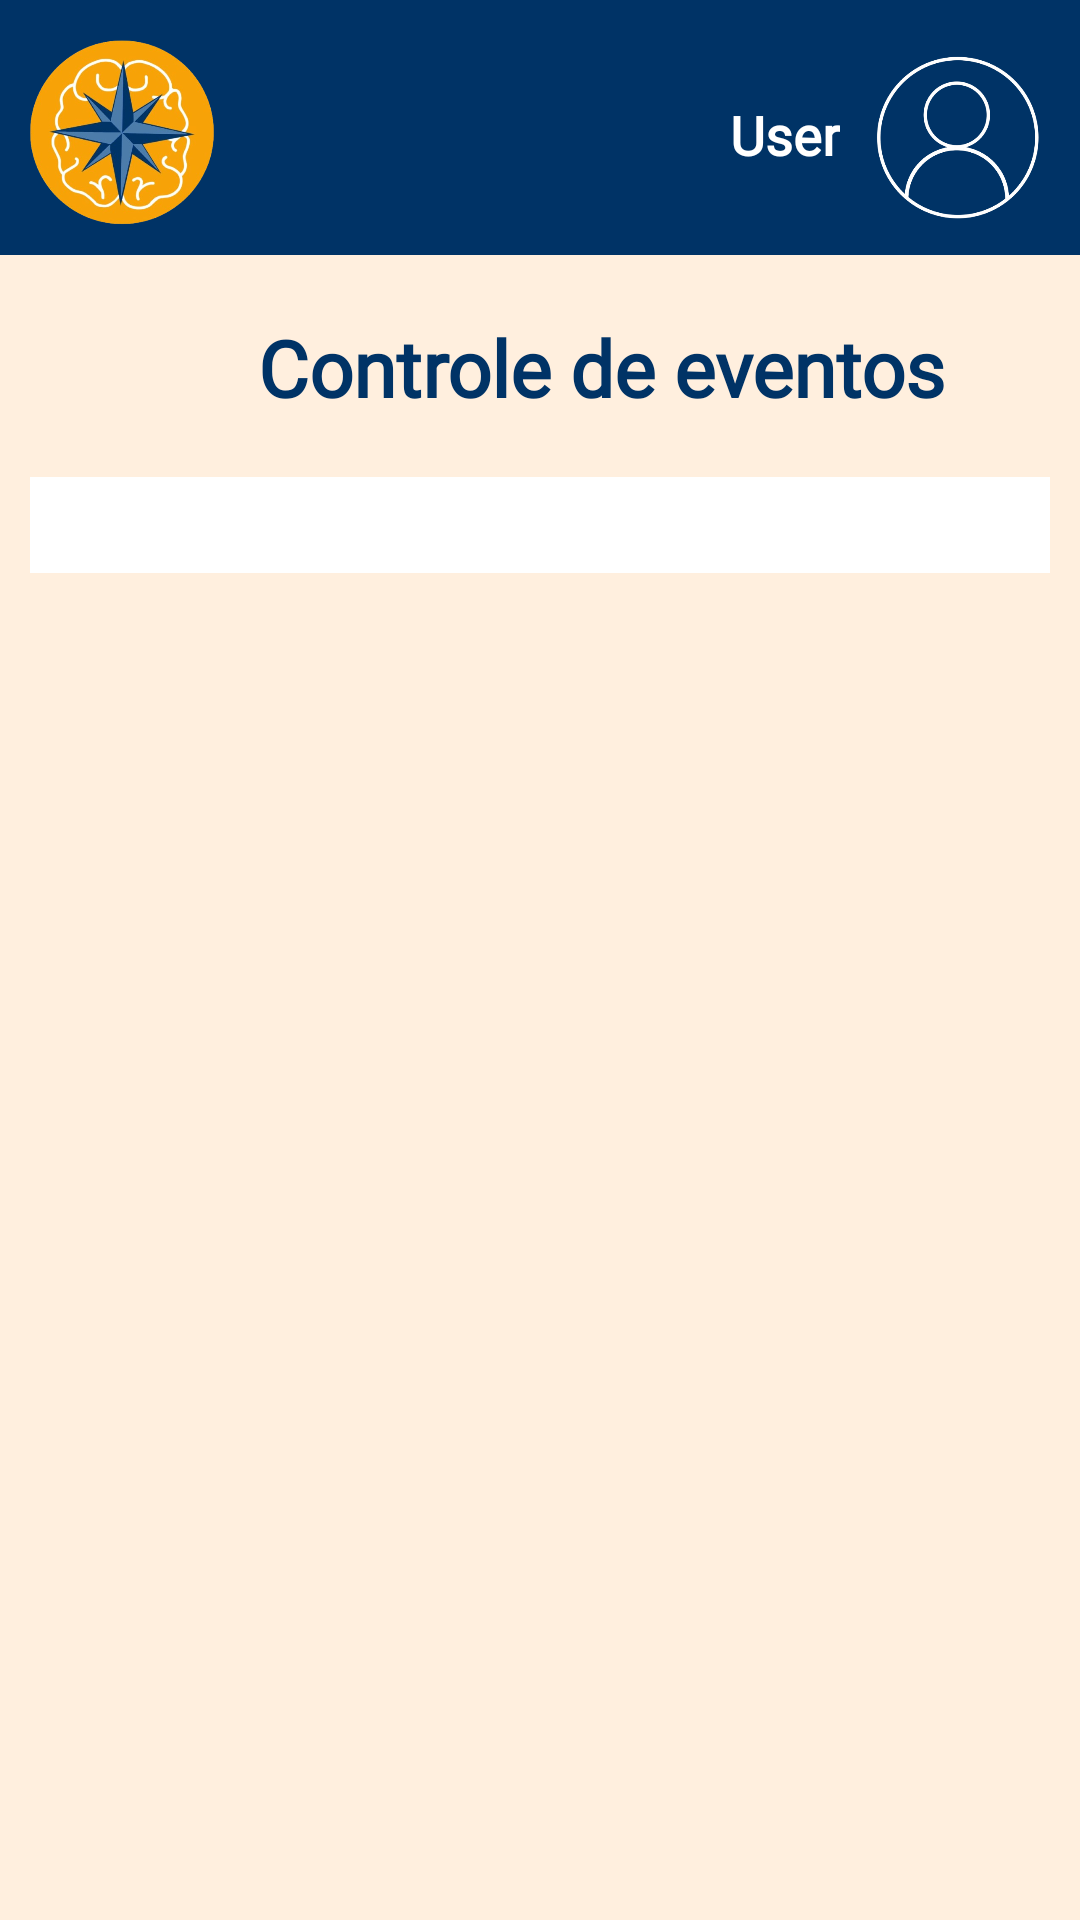

Named icons in this screenshot (1080 × 1920) and their bounding boxes, (x1, y1, x2, y2):
perfil: (877, 57, 1039, 219)
